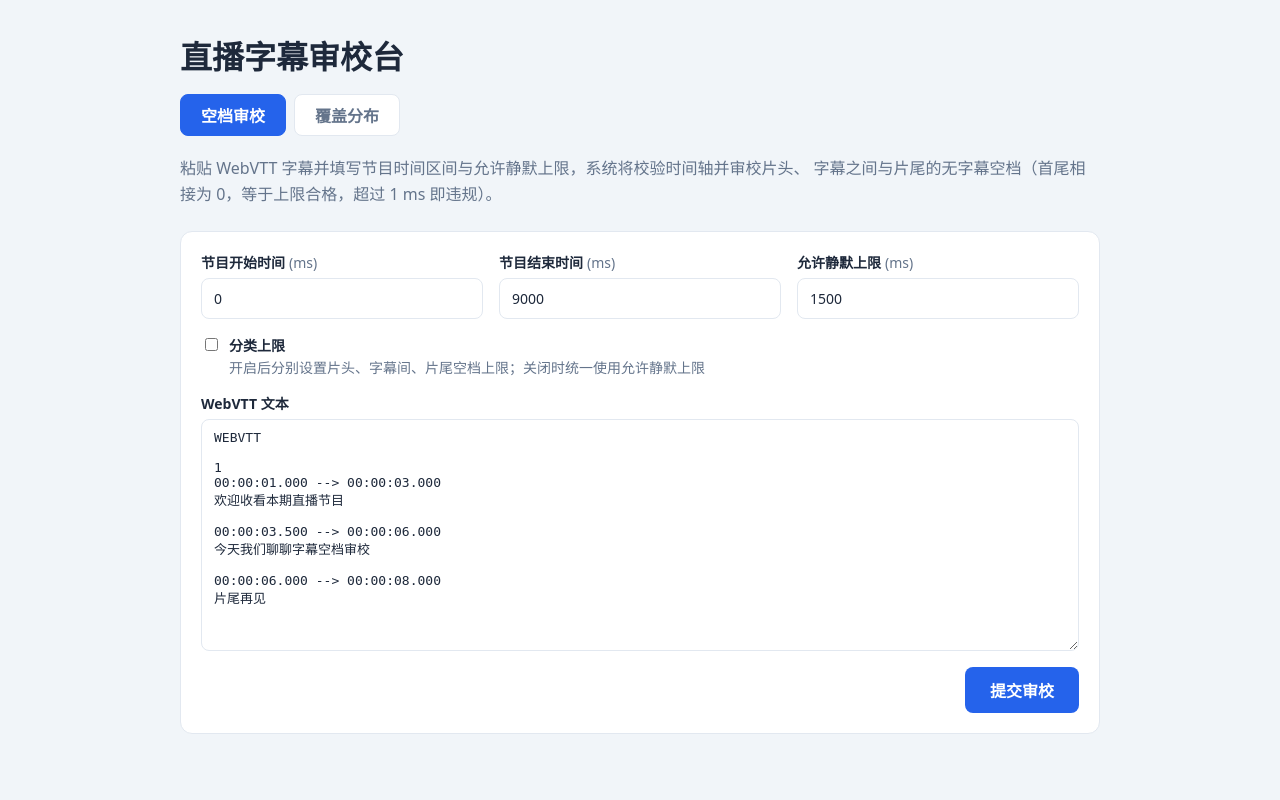
Scenario: Coverage page states › shows the gap review by default and switches between tabs
The image size is (1280, 800).
Click the tab with test id "tab-coverage". click: (347, 115)
box: 294,94 -> 400,136
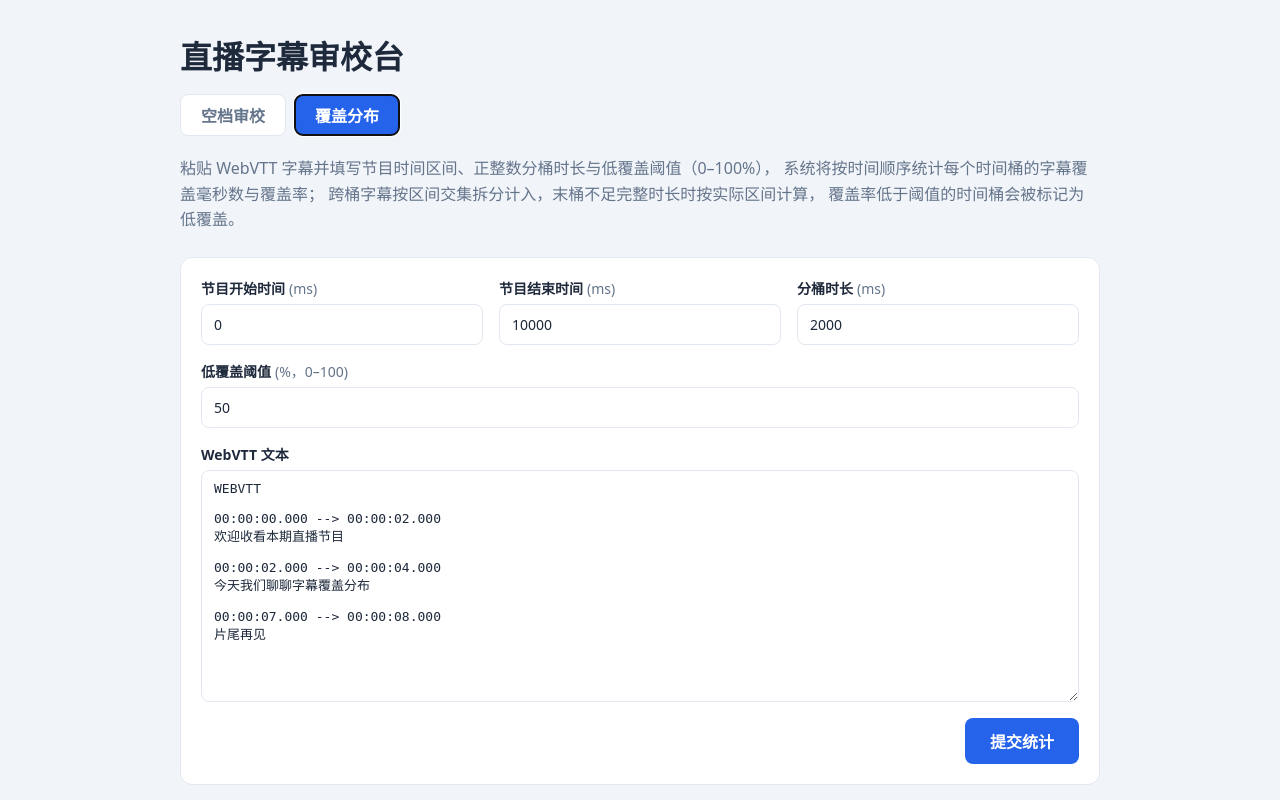
Check: the text box with test id "coverage-input-vtt" is shown, box 201,470 -> 1079,702
Check: the text box with test id "input-vtt" is gone
Click the tab with test id "tab-review". click: (233, 115)
box: 180,94 -> 286,136
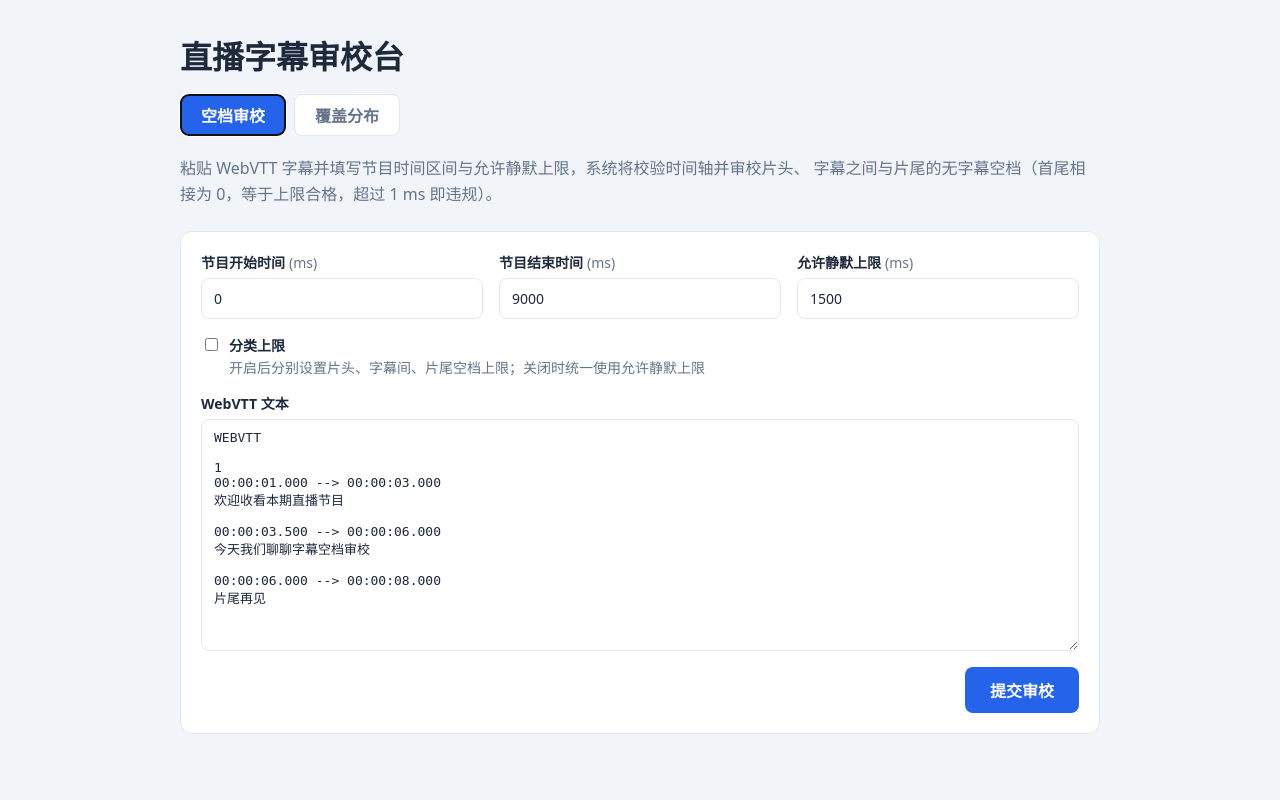
Check: the text box with test id "input-vtt" is shown, box 201,419 -> 1079,651
Check: the text box with test id "coverage-input-vtt" is gone
